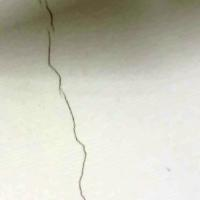crack: (28, 0, 98, 199)
